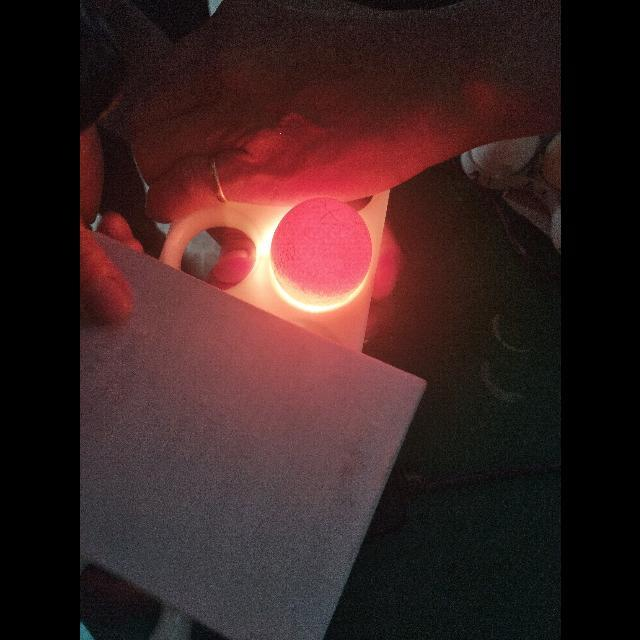Infertile: (272, 206, 370, 298)
